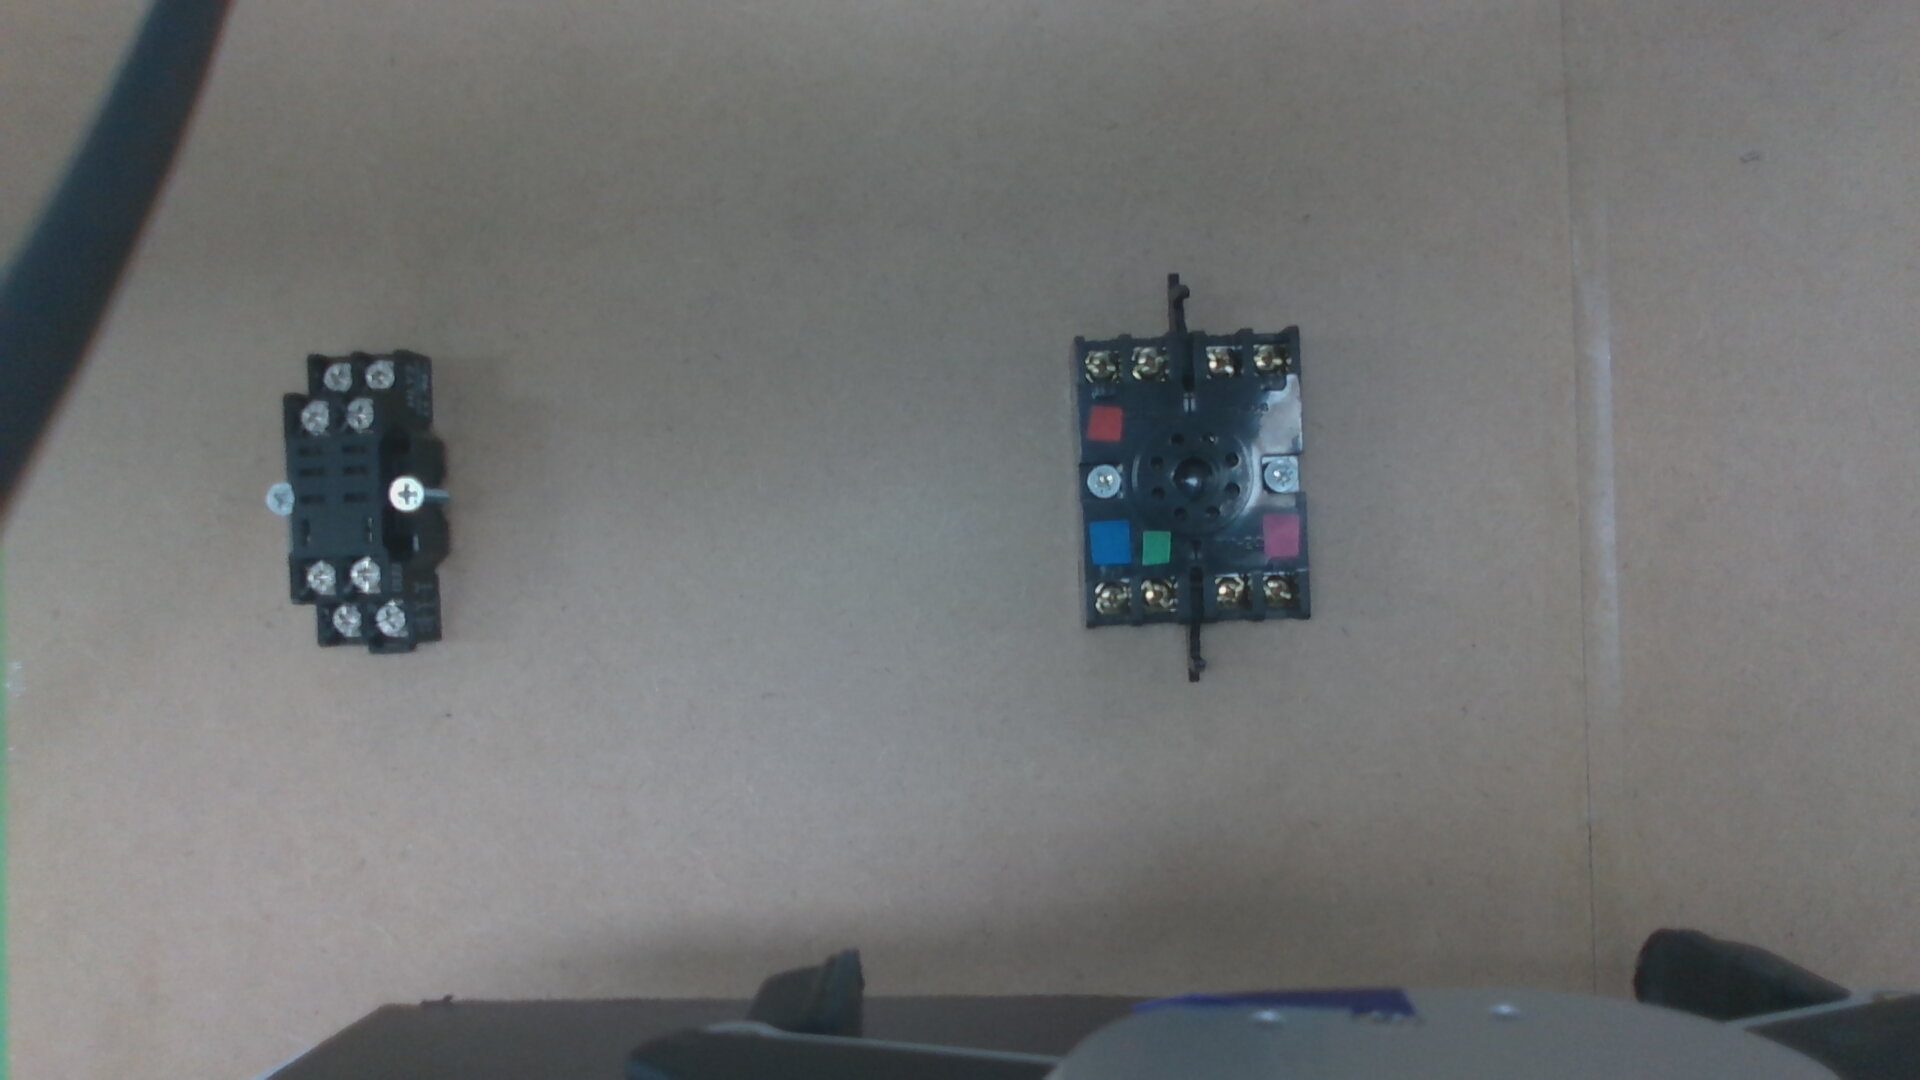timer 2: (1263, 576, 1291, 605)
timer 6: (1083, 349, 1120, 381)
timer 7: (1095, 583, 1130, 613)
timer 8: (1141, 578, 1174, 611)
